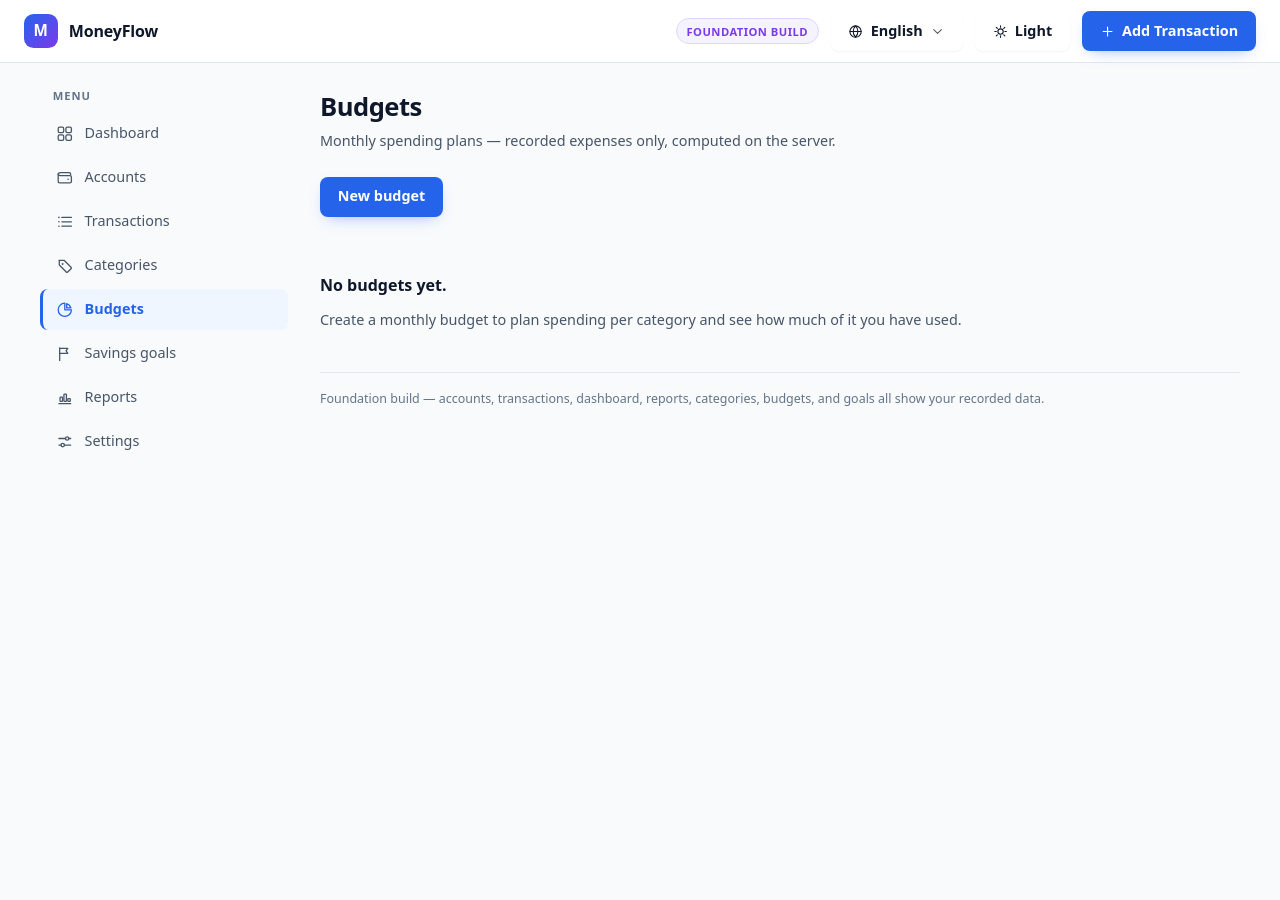
Scenario: budgets route (wired to the IT-9 budget endpoints) › validates the create form locally and posts canonical decimal limits
Click the button "New budget".
click(382, 196)  # box 320,176 -> 443,216
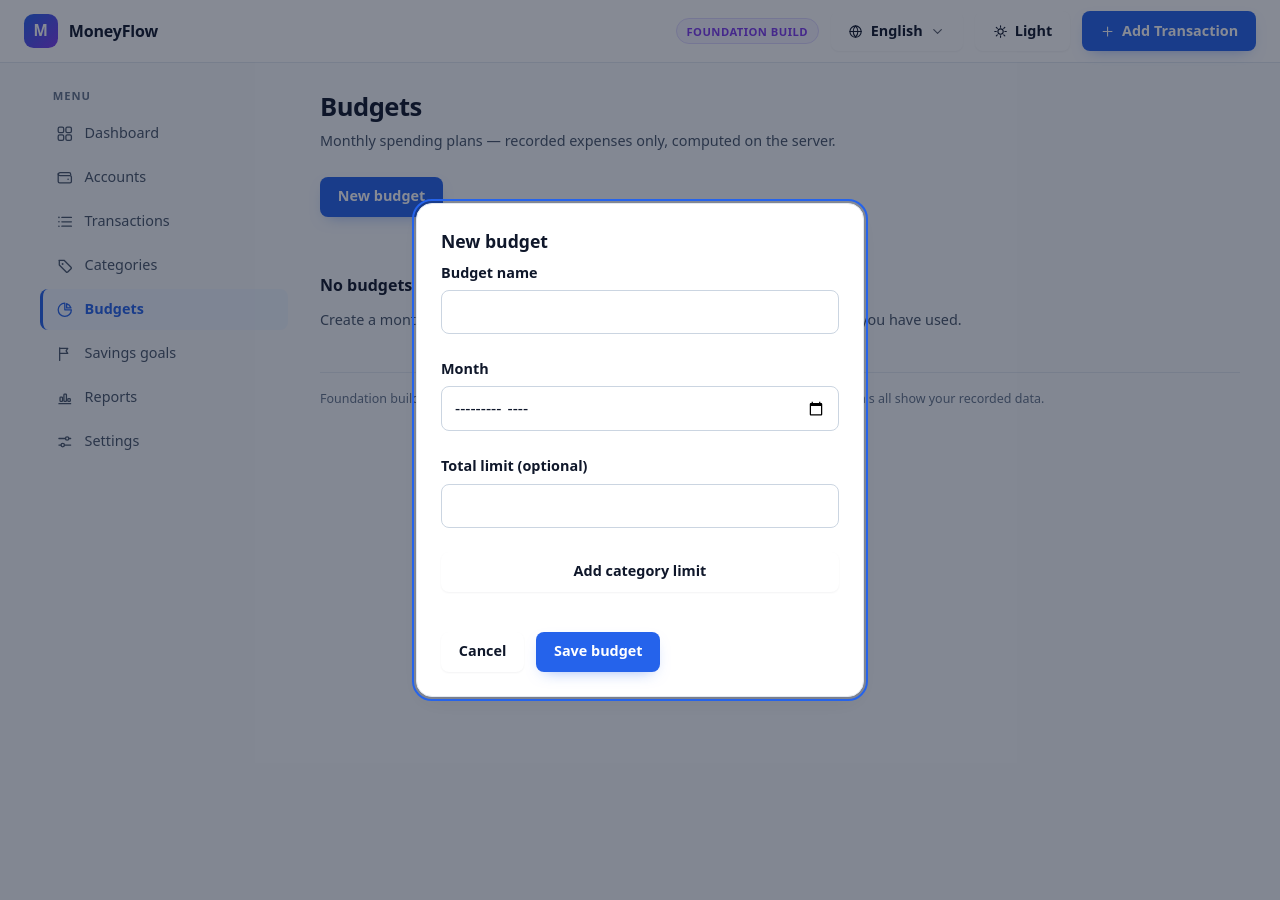
Click the button "Save budget".
click(598, 652)  # box 536,632 -> 660,672
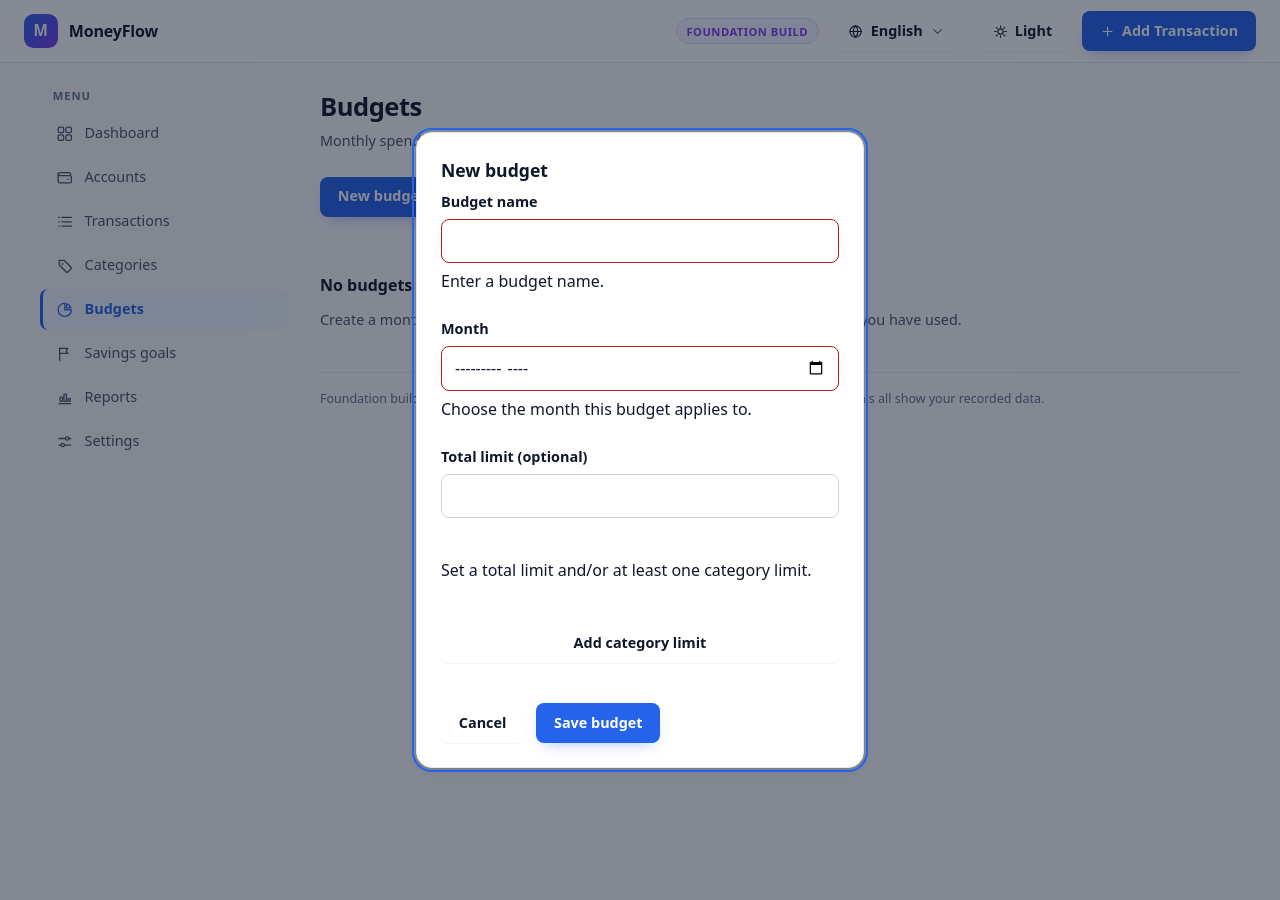
Check: the text "Enter a budget name." is shown, box 441,270 -> 604,292
Check: the text "Choose the month this budget applies to." is shown, box 441,398 -> 752,420
Check: the text "Set a total limit and/or at least one category limit." is shown, box 441,558 -> 839,583
Labels also hold their inline error text, so match on the leading name.
Type " November plan " into the field labelled "Budget name Enter a budget name.".
click(640, 241); type(" November plan ")  # box 441,219 -> 839,263
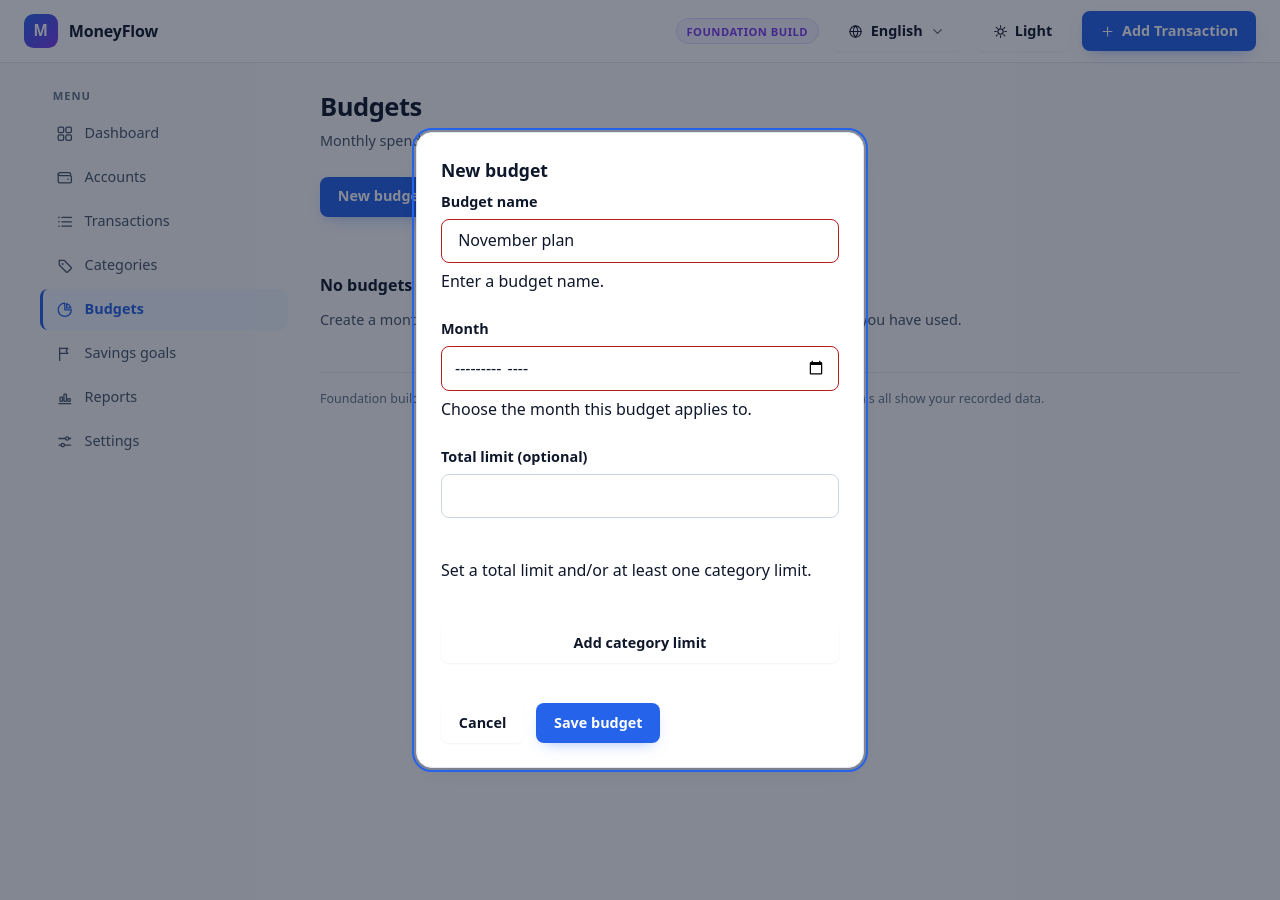
Type "2026-11" into the field labelled "Month Choose the month this budget applies to.".
click(640, 368); type("2026-11")  # box 441,346 -> 839,391
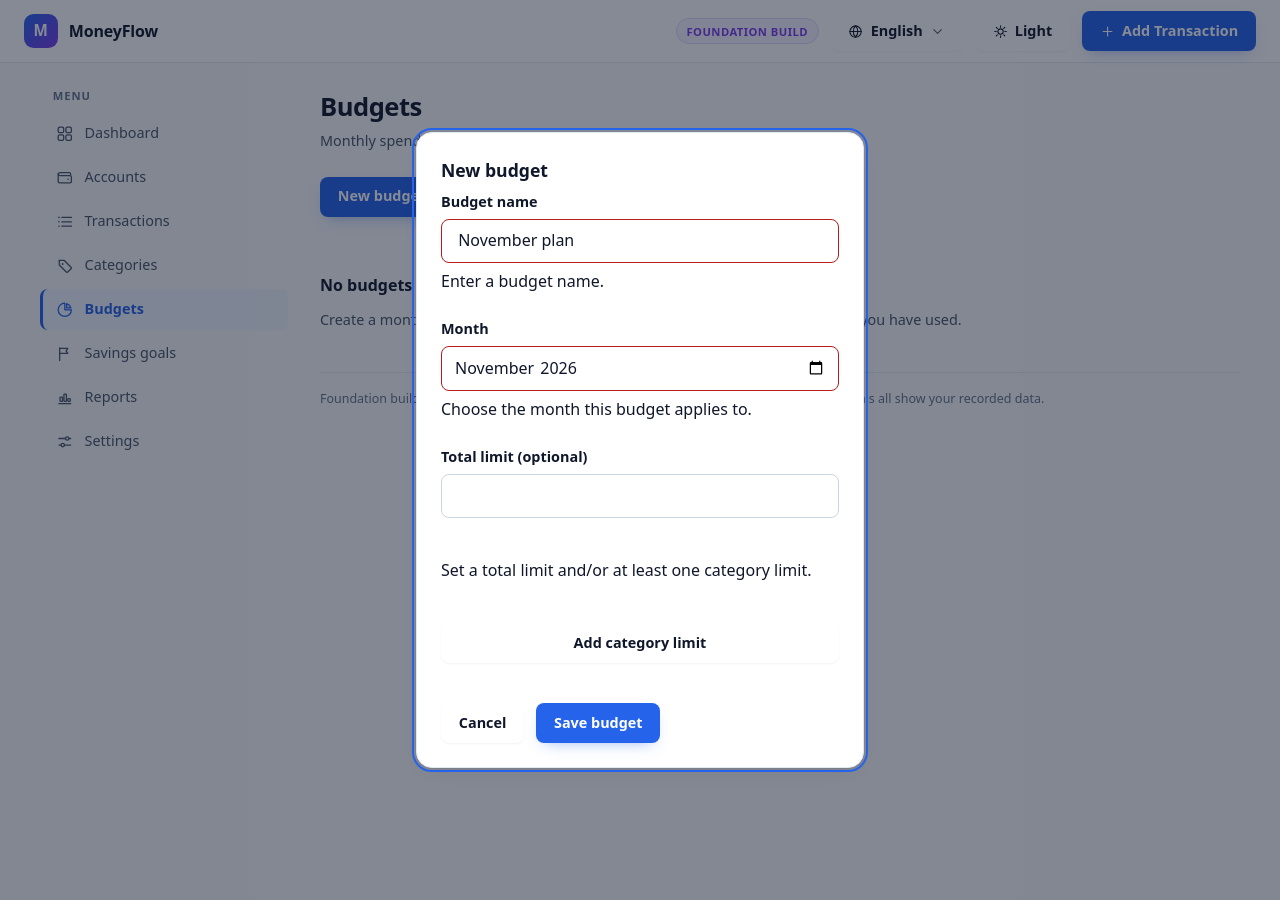
Type "5000.50" into the field labelled "Total limit (optional)".
click(640, 496); type("5000.50")  # box 441,474 -> 839,518
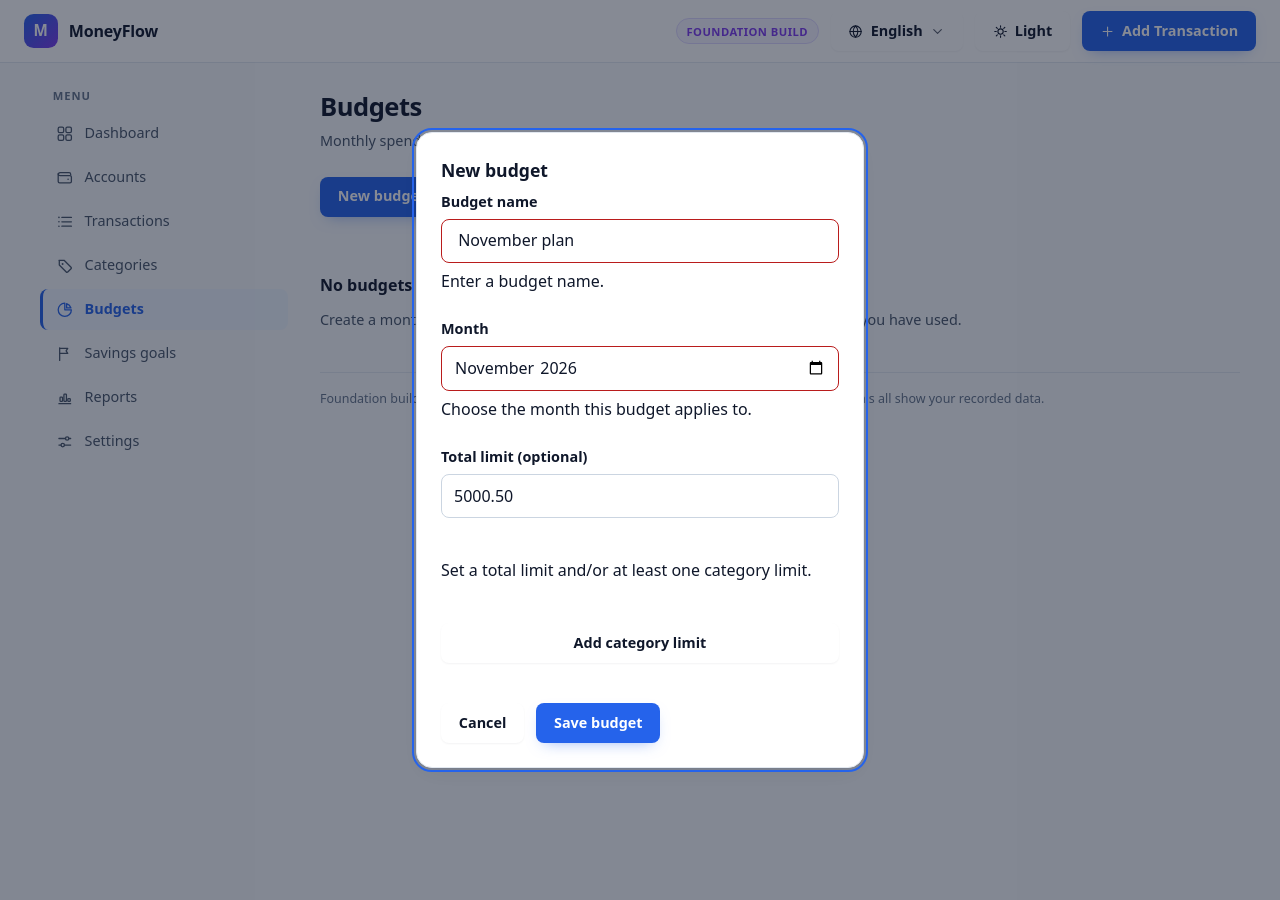
Click the button "Save budget".
click(598, 723)  # box 536,703 -> 660,743
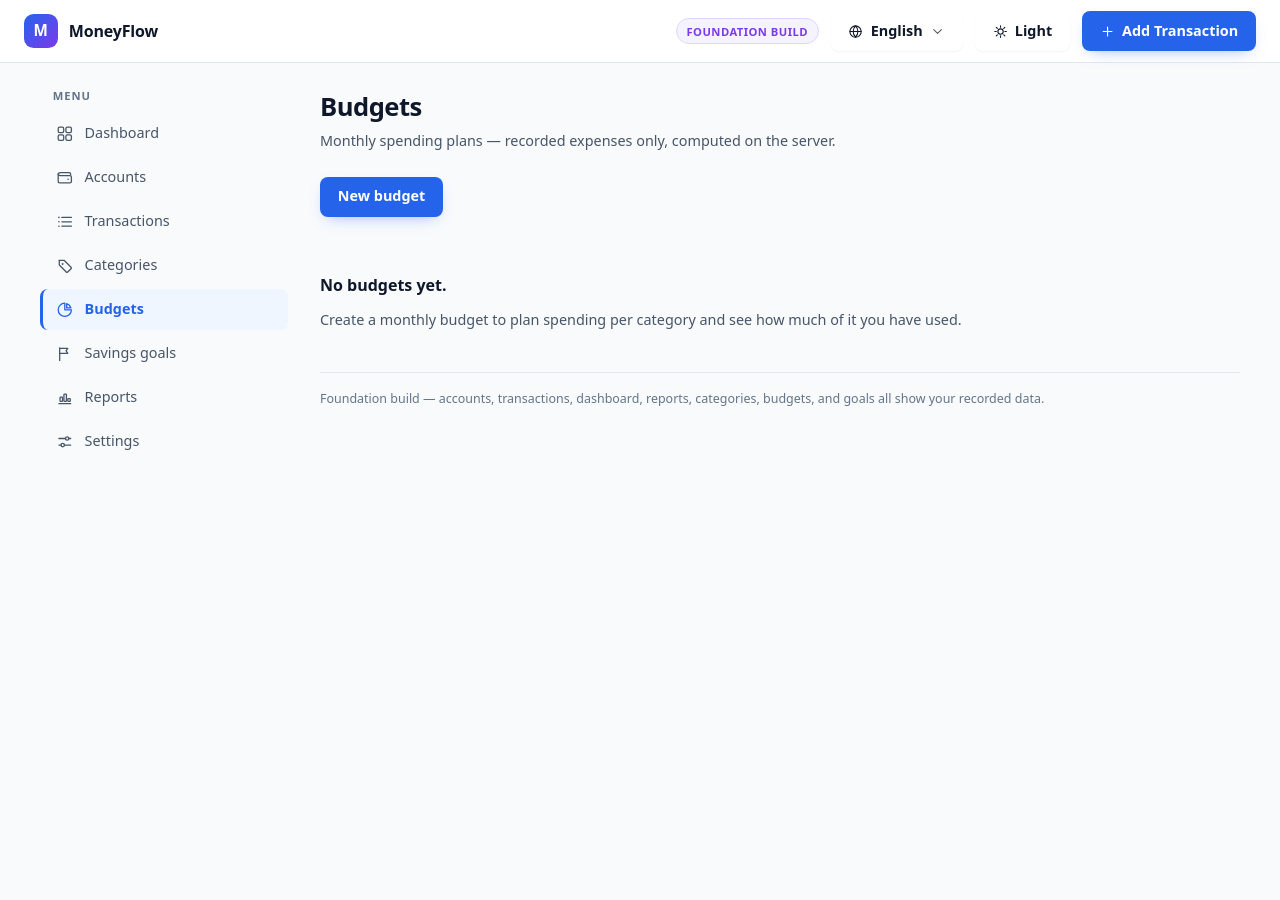
Check: the button "Save budget" is gone
